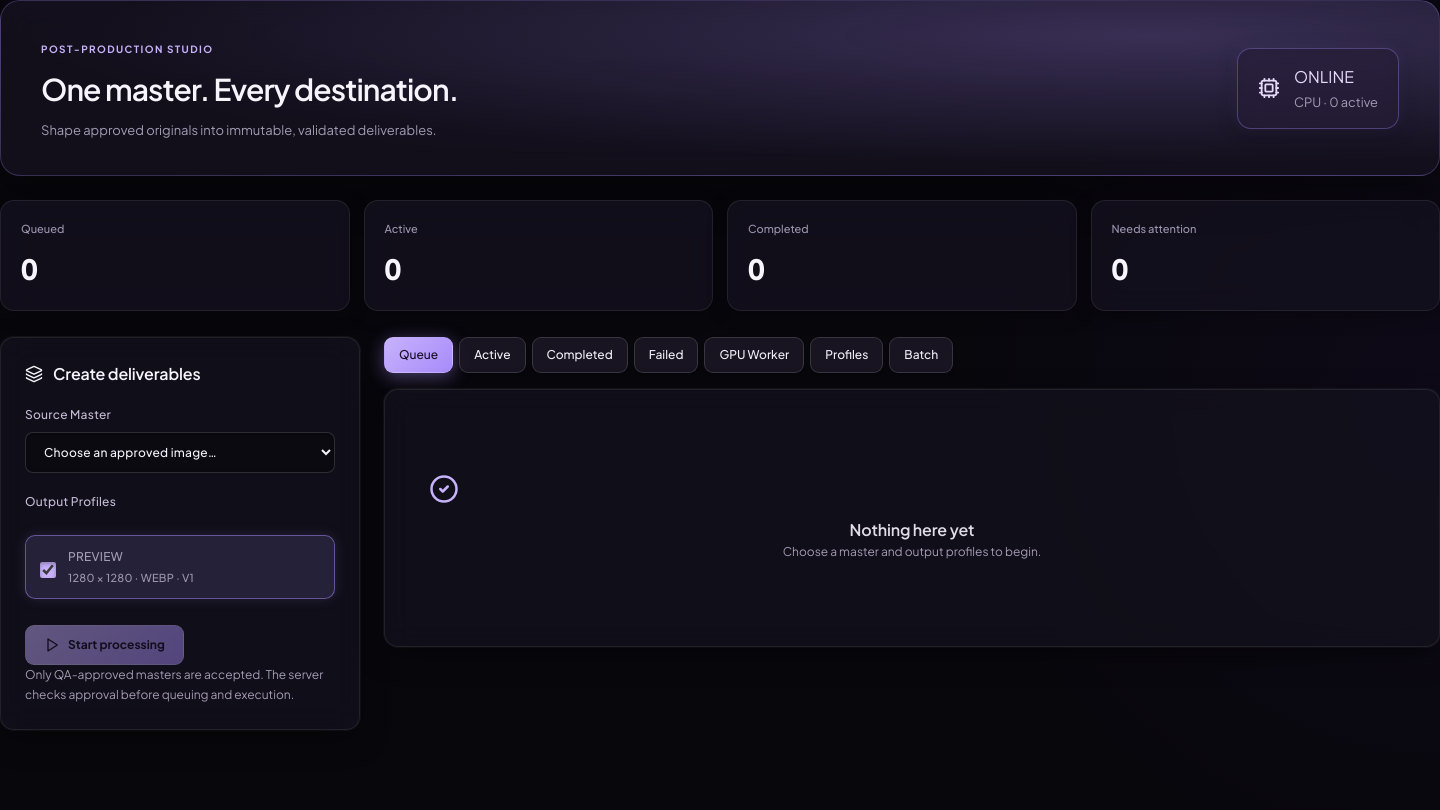
Test: starts an asynchronous run with selected immutable profiles
Expected: the text "PREVIEW" is shown, [68,549,123,564]
Select "asset-12 · 2000 × 2000" in the dropdown labelled "Source master" at (180, 452), box [25,432,335,473]
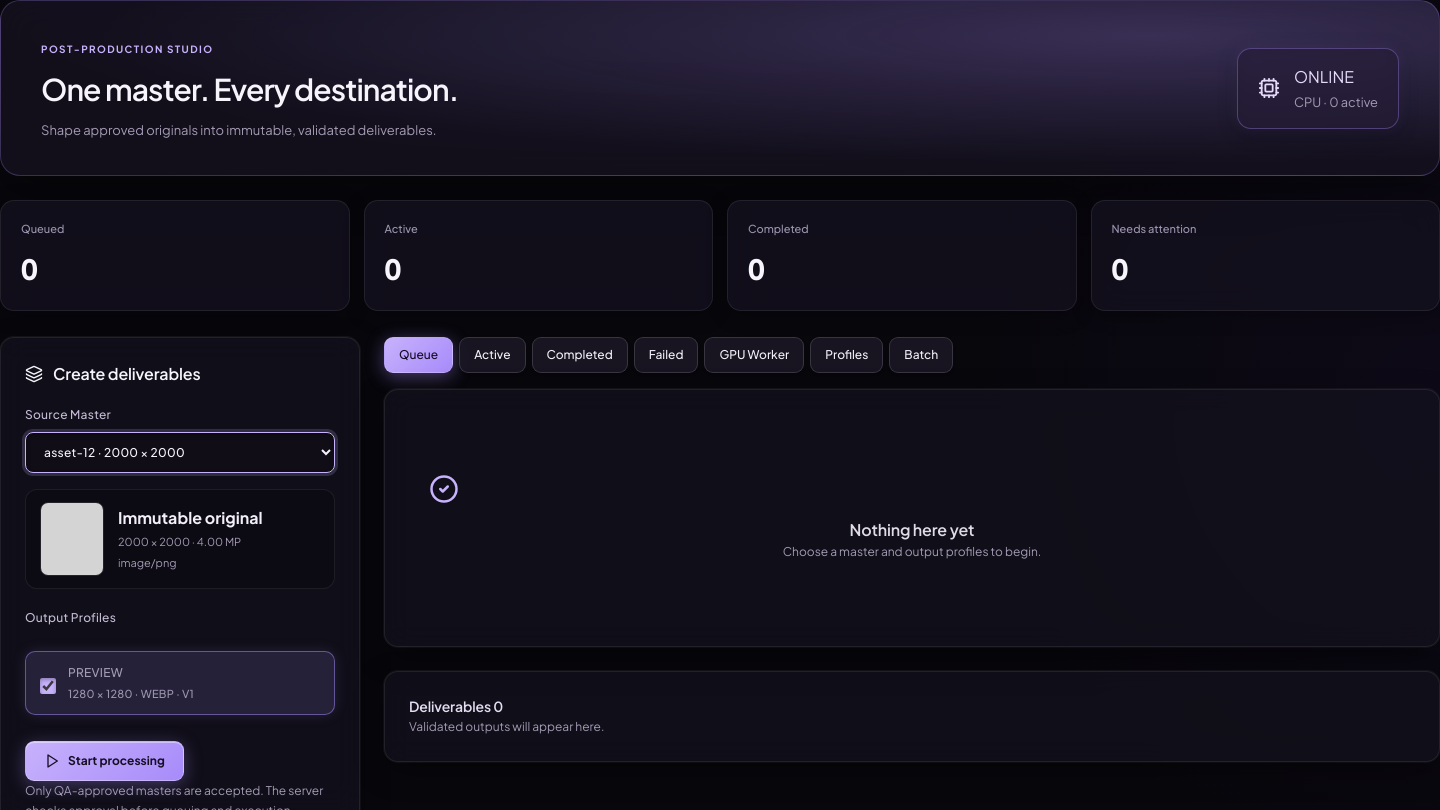
Click the button "Start processing".
click(104, 761)  # box [25,741,184,781]
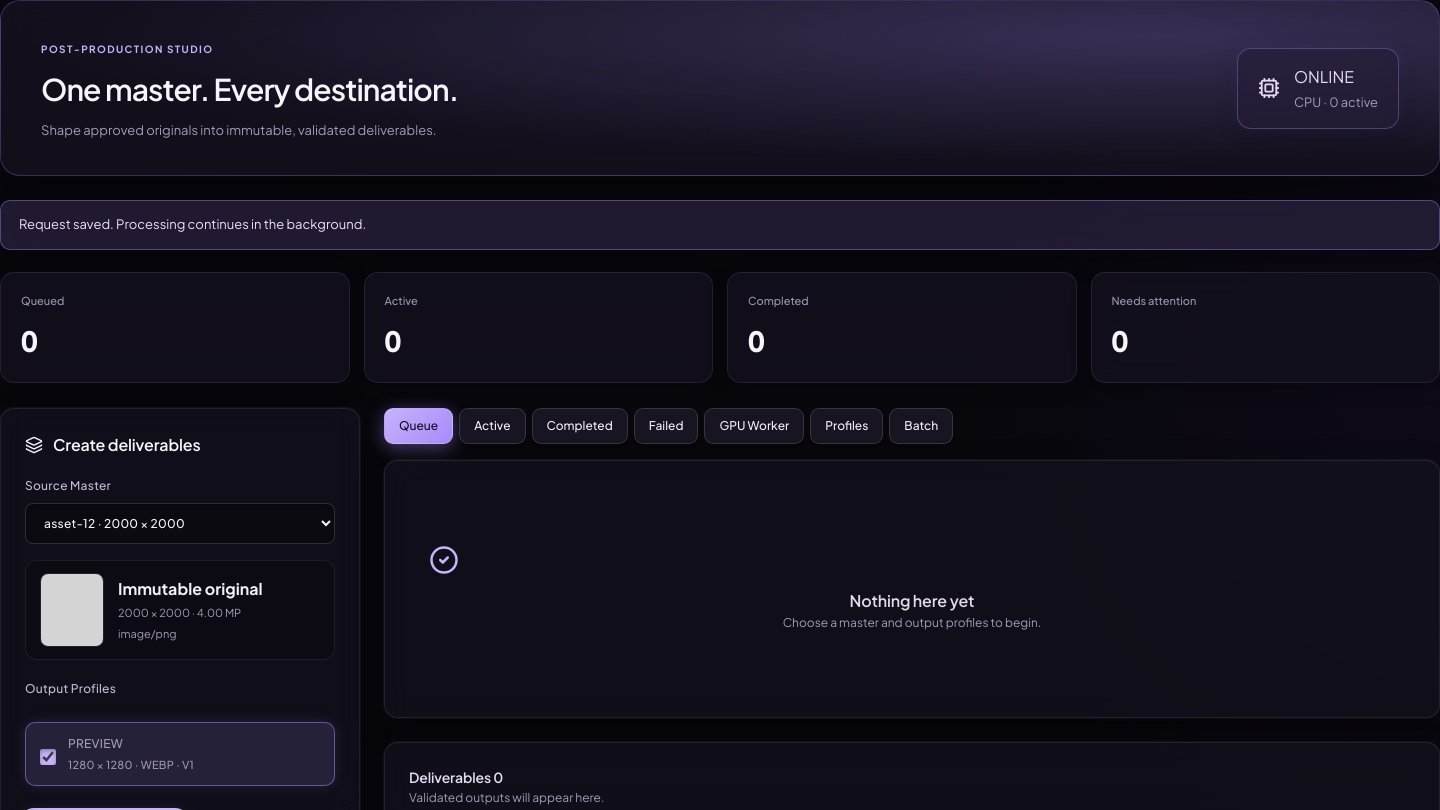
Result: the text "Request saved. Processing continues in the background." is shown at [0,200,1439,250]
